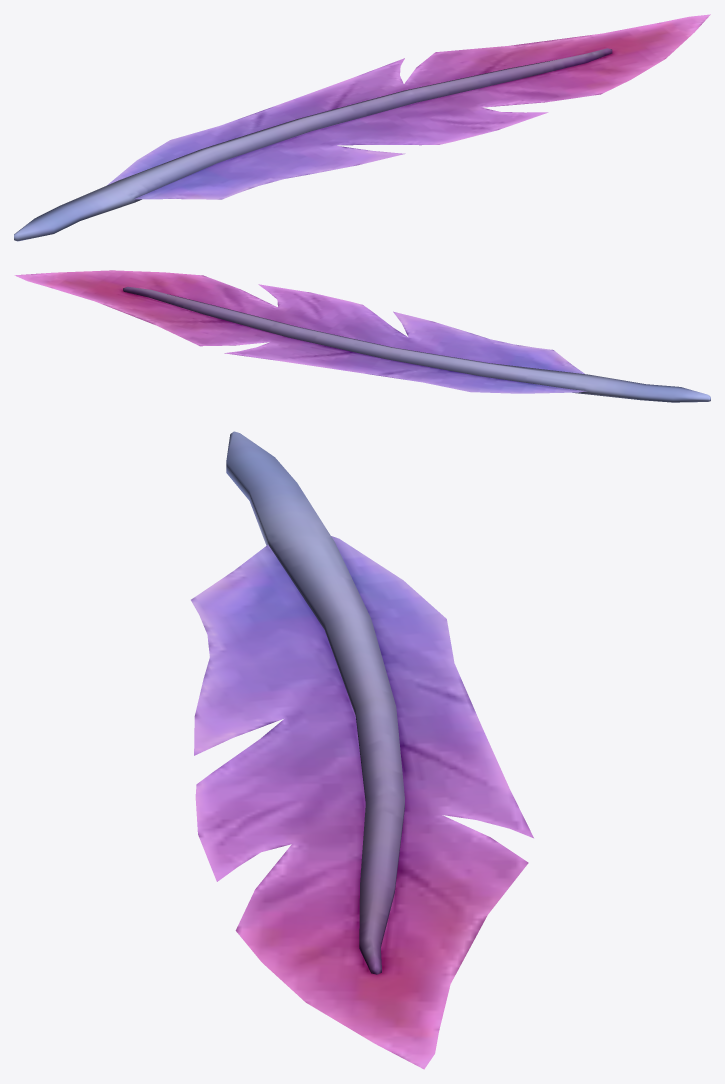
3 renders of one model, top to bottom at view 1: azimuth 30°, elevation 25°; view 2: azimuth 150°, elevation 25°; view 3: azimuth 270°, elevation 25°, orthographic. The views are drawn at different scales.
Visible parts, largest first — view 1: SM_Feather_01_LOD0; view 2: SM_Feather_01_LOD0; view 3: SM_Feather_01_LOD0.
Boxes of the visible parts, x1,y1,x2,y2 form: SM_Feather_01_LOD0: [14, 14, 710, 241]; SM_Feather_01_LOD0: [14, 270, 710, 402]; SM_Feather_01_LOD0: [191, 431, 533, 1069].
Bounding box in the file's own units: 0.4903 × 0.0115 × 0.1123.
1 material, 1 textured.
